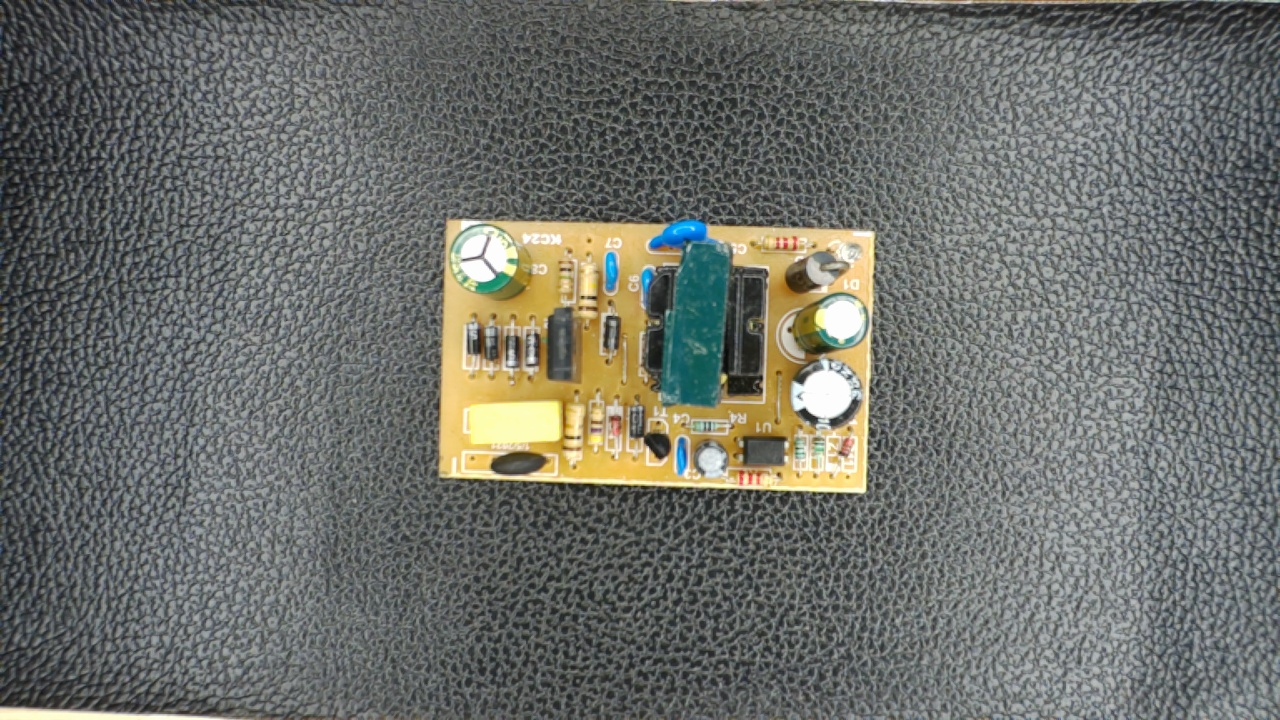fuse: (474, 449, 557, 477)
hv_capacitor: (449, 224, 530, 299)
mov: (644, 221, 711, 254)
optocoupler: (734, 437, 789, 467)
